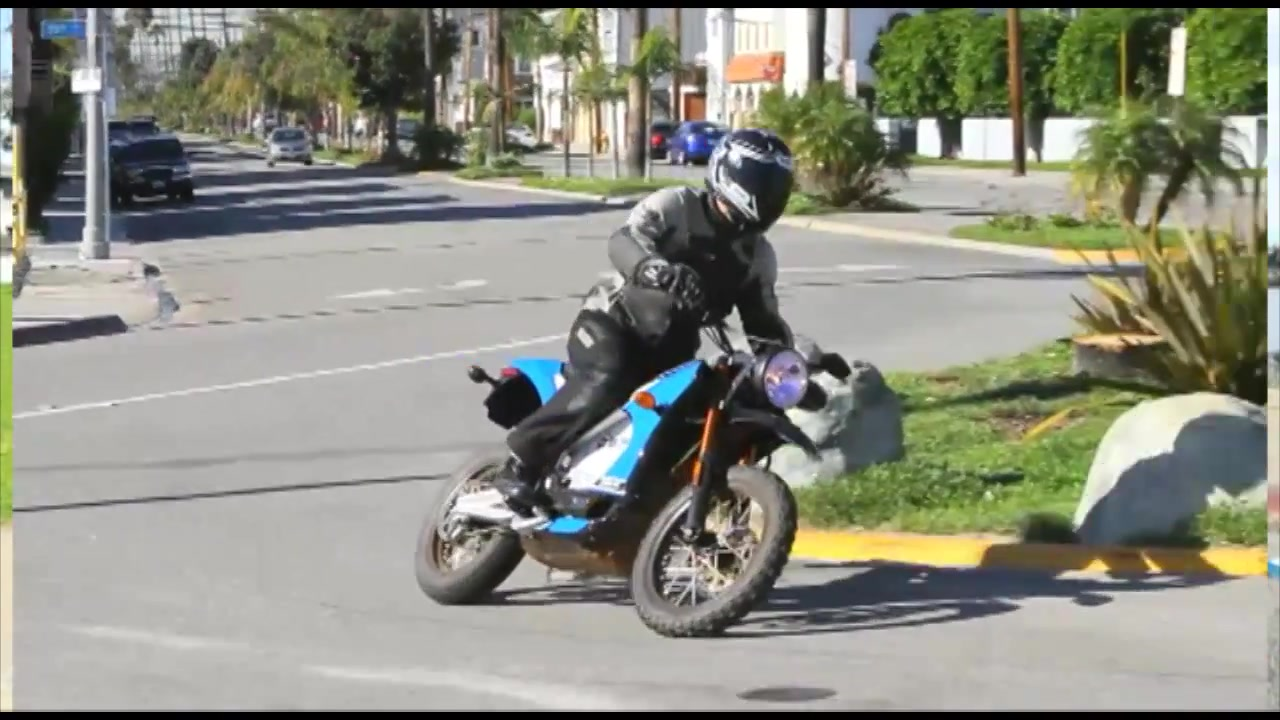motorbike: (416, 313, 855, 636)
